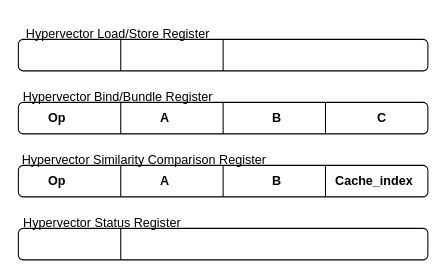
Some shapes in this 446 by 279 pixel diagram are drawn without their labels. The shapes that lost their labels are listed below. From the top down, each one's box as (x1, y1, x2, y2) in pixels, then its label:
(17, 38, 428, 71): Op index data
(17, 227, 428, 260): Op H V index or Sim Cache index
